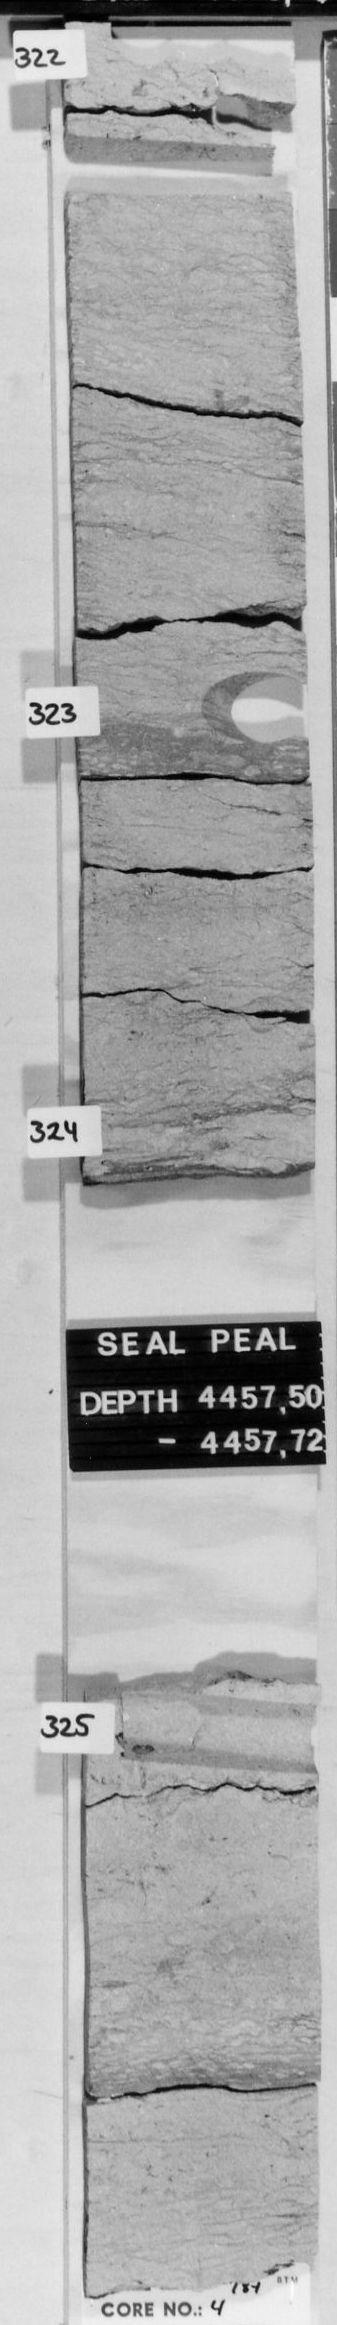hplug: (196, 666, 309, 749), (105, 24, 183, 74)
scal: (68, 130, 289, 216)
